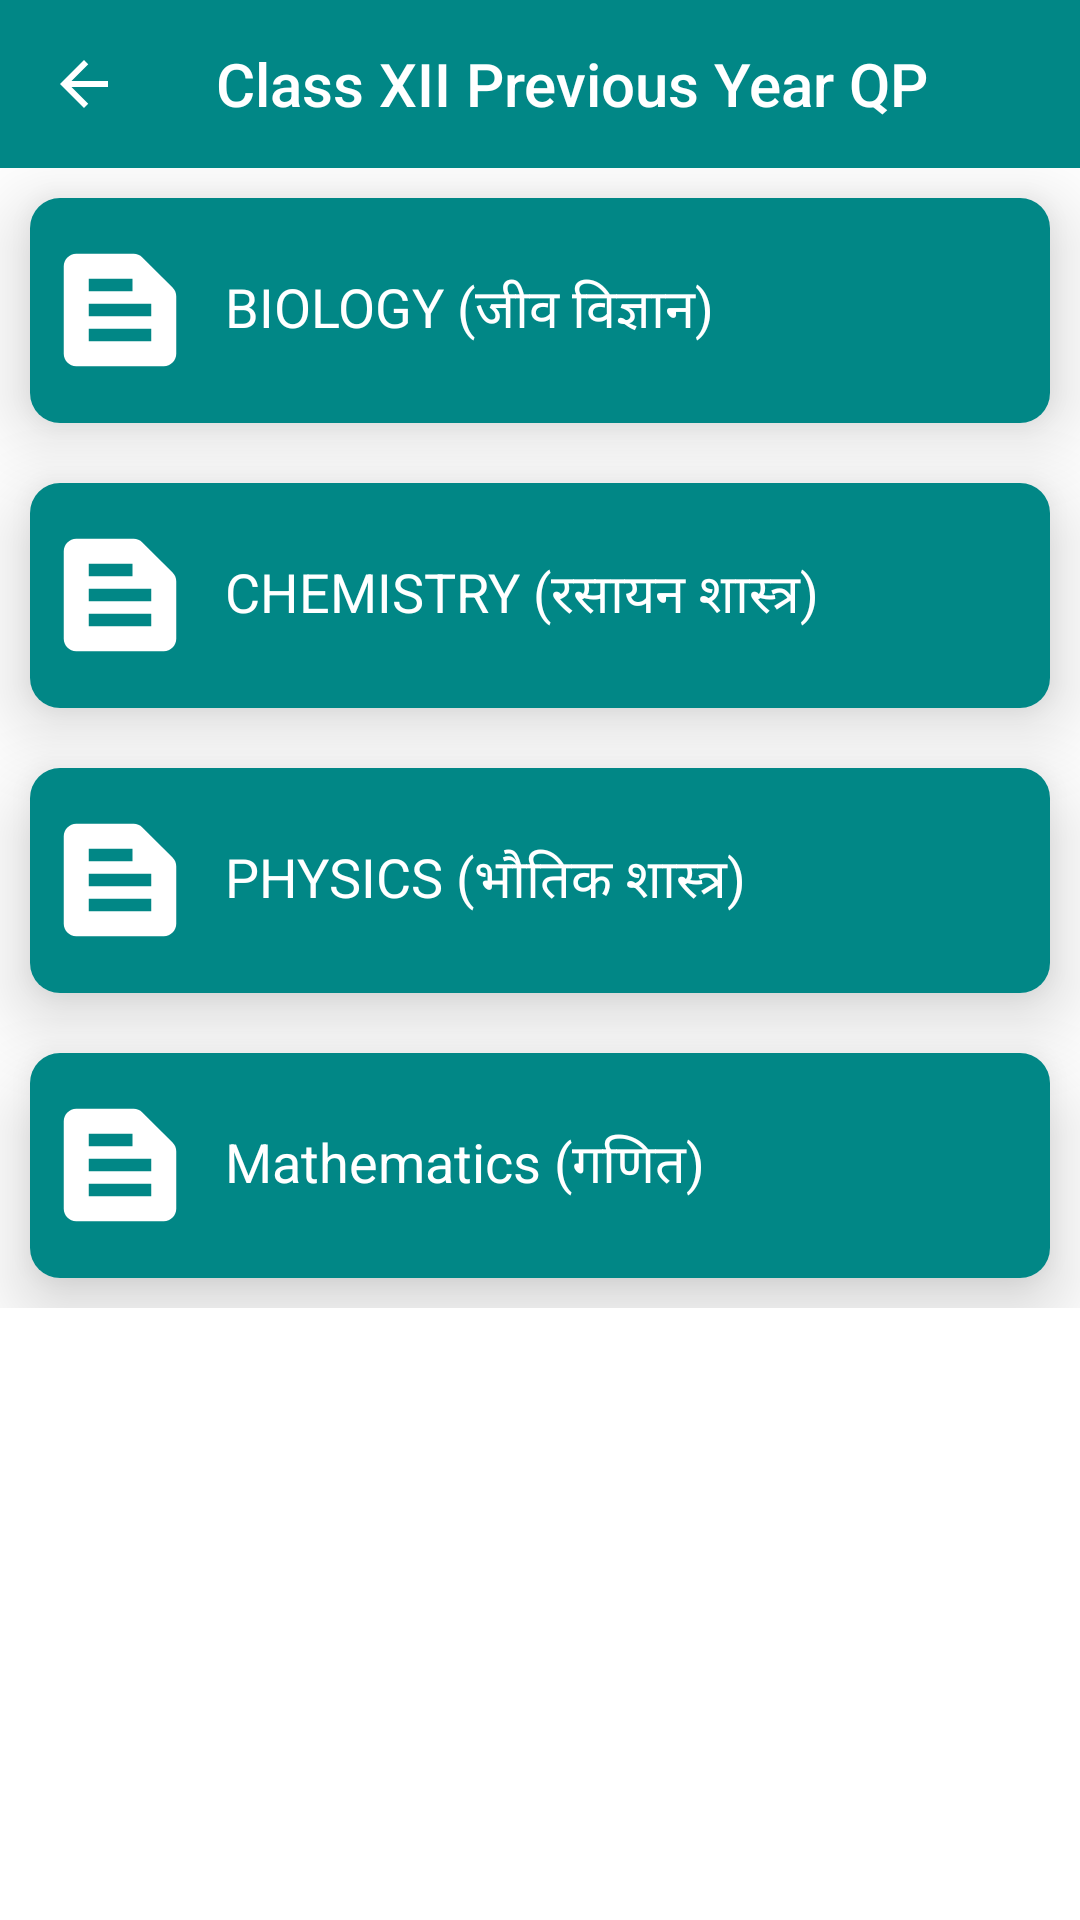

Icons on this 1080*1920 Android screen, each with its box as detection(x1, y1, x2, y2):
text snippet: detection(63, 253, 177, 367), detection(63, 538, 177, 652), detection(63, 823, 177, 937), detection(63, 1108, 177, 1222)
